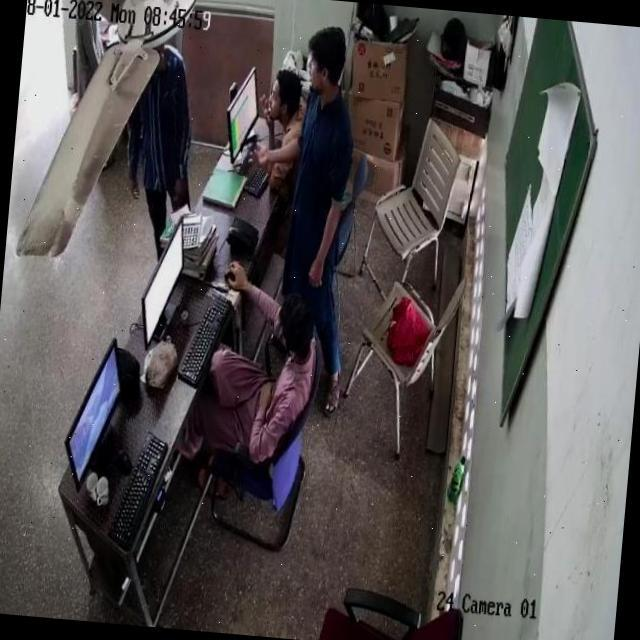person: (280, 25, 374, 404), (203, 298, 323, 465), (134, 46, 193, 254), (256, 61, 318, 188)
